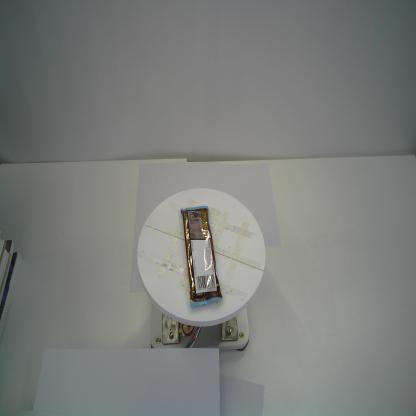Chocolate: (181, 206, 223, 308)
